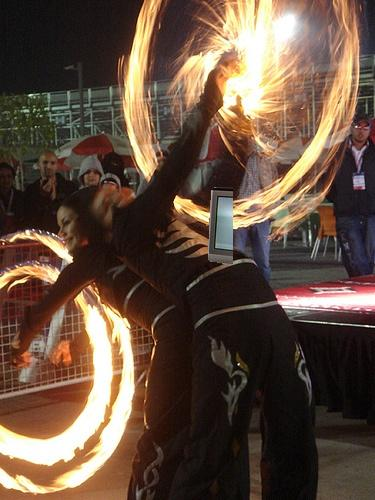tampered: (209, 188, 233, 265)
